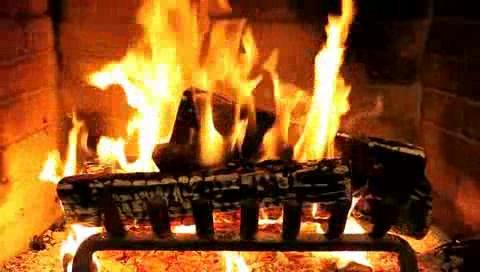fire: (95, 0, 358, 181)
